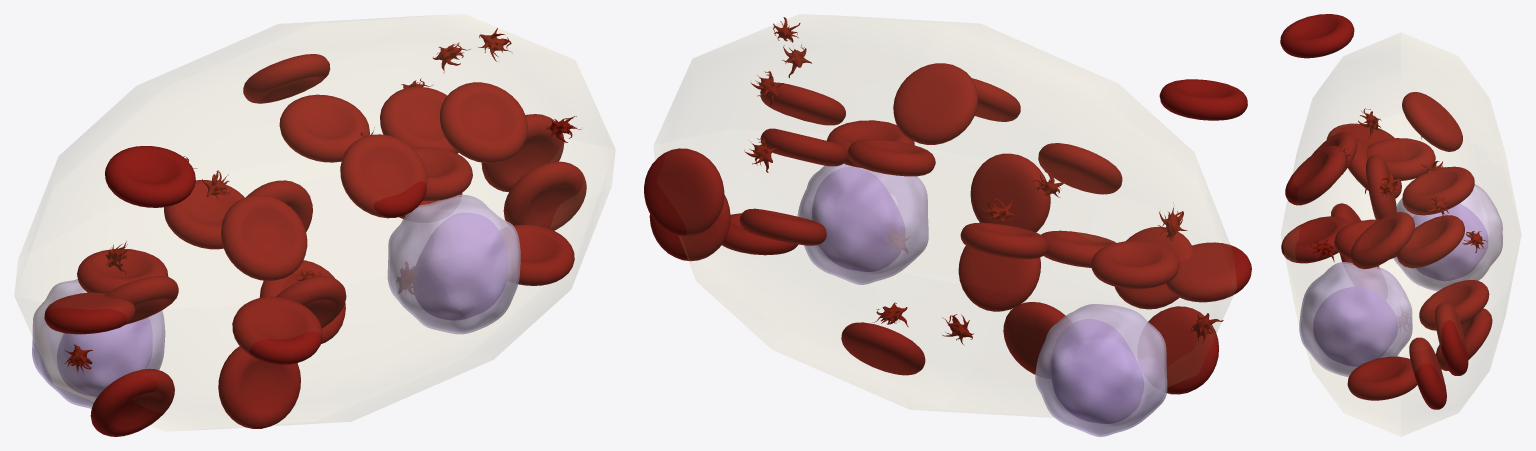
The model's file is blood.glb.
The picture shows the model from 3 angles, left to right: view 1: azimuth 30°, elevation 25°; view 2: azimuth 150°, elevation 25°; view 3: azimuth 270°, elevation 25°; orthographic projection. The views are drawn at different scales.
Parts seen in each view (by area): view 1: cz-plasma, cz-wbc, cz-wbc.002, cz-wbc.001, cz-rbc, cz-rbc.008, cz-rbc.020, cz-rbc.017, cz-rbc.009, cz-rbc.012, cz-rbc.006, cz-wbc.003 (+14 smaller); view 2: cz-plasma, cz-wbc.002, cz-wbc, cz-wbc.003, cz-wbc.001, cz-rbc.003, cz-rbc.011, cz-rbc.004, cz-rbc.014, cz-rbc.001, cz-rbc.016, cz-rbc.013 (+15 smaller); view 3: cz-plasma, cz-wbc, cz-wbc.001, cz-wbc.002, cz-rbc.006, cz-rbc.018, cz-rbc.012, cz-rbc.020, cz-rbc.021, cz-rbc.008, cz-rbc.011, cz-wbc.003 (+16 smaller).
Boxes of the visible parts, bbox=[...] form: cz-plasma: bbox=[15, 14, 614, 430]; cz-wbc: bbox=[387, 194, 520, 334]; cz-wbc.002: bbox=[32, 279, 165, 408]; cz-wbc.001: bbox=[413, 213, 507, 319]; cz-rbc: bbox=[221, 195, 307, 280]; cz-rbc.008: bbox=[340, 134, 427, 218]; cz-rbc.020: bbox=[440, 82, 527, 163]; cz-rbc.017: bbox=[218, 346, 300, 428]; cz-rbc.009: bbox=[232, 296, 322, 364]; cz-rbc.012: bbox=[279, 94, 369, 162]; cz-rbc.006: bbox=[105, 146, 195, 207]; cz-wbc.003: bbox=[57, 318, 151, 395]; cz-plasma: bbox=[654, 14, 1236, 417]; cz-wbc.002: bbox=[1035, 304, 1167, 436]; cz-wbc: bbox=[797, 163, 928, 284]; cz-wbc.003: bbox=[1051, 319, 1143, 423]; cz-wbc.001: bbox=[812, 167, 904, 271]; cz-rbc.003: bbox=[644, 148, 724, 236]; cz-rbc.011: bbox=[893, 63, 977, 144]; cz-rbc.004: bbox=[970, 153, 1050, 232]; cz-rbc.014: bbox=[1147, 306, 1218, 394]; cz-rbc.001: bbox=[958, 246, 1040, 311]; cz-rbc.016: bbox=[1166, 242, 1251, 302]; cz-rbc.013: bbox=[1091, 241, 1179, 289]; cz-plasma: bbox=[1281, 33, 1520, 436]; cz-wbc: bbox=[1299, 262, 1412, 377]; cz-wbc.001: bbox=[1314, 287, 1397, 365]; cz-wbc.002: bbox=[1393, 184, 1502, 291]; cz-rbc.006: bbox=[1280, 14, 1354, 58]; cz-rbc.018: bbox=[1347, 356, 1417, 400]; cz-rbc.012: bbox=[1402, 166, 1474, 213]; cz-rbc.020: bbox=[1350, 212, 1414, 269]; cz-rbc.021: bbox=[1396, 215, 1464, 268]; cz-rbc.008: bbox=[1285, 146, 1346, 205]; cz-rbc.011: bbox=[1402, 92, 1462, 151]; cz-wbc.003: bbox=[1413, 204, 1487, 280].
Size of the model in its own units: 19 by 12 by 8.01.
